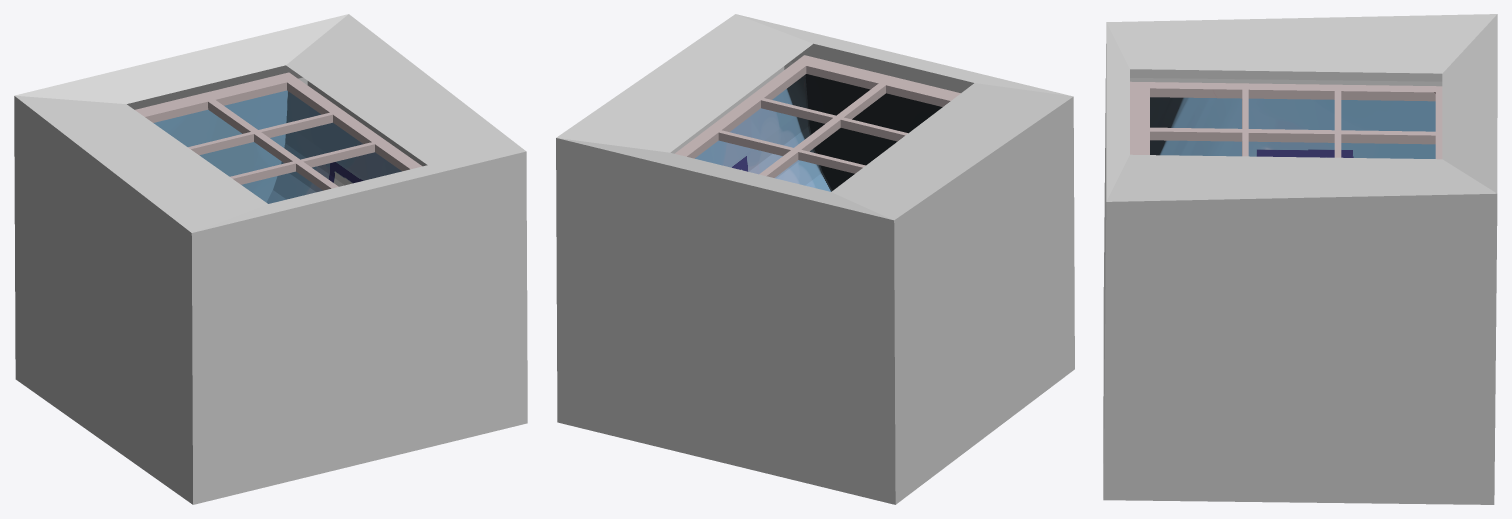
File: windows_single.gltf
3 views of the same model, side by side, from view 1: azimuth 30°, elevation 25°; view 2: azimuth 150°, elevation 25°; view 3: azimuth 270°, elevation 25° (orthographic). The views are drawn at different scales.
Visible parts, largest first — view 1: Cube, Cylinder.001; view 2: Cube, Cylinder.001; view 3: Cube, Cylinder.001.
Boxes of the visible parts, x1,y1,x2,y2 form: Cube: (14, 14, 527, 504); Cylinder.001: (135, 72, 422, 203); Cube: (556, 14, 1074, 504); Cylinder.001: (675, 55, 960, 191); Cube: (1103, 14, 1497, 504); Cylinder.001: (1130, 81, 1442, 159).
Size of the model in its own units: 2.48 by 2 by 2.3.
Materials: 2 (1 with a texture image).
